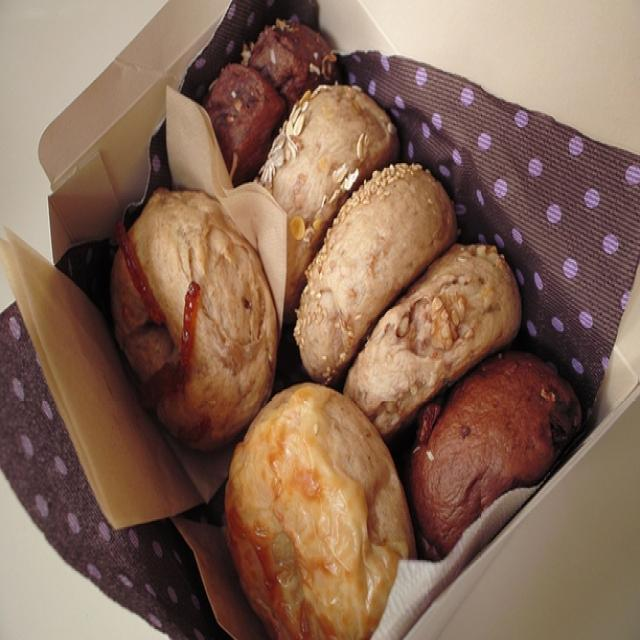面包点心: (38, 9, 621, 610)
